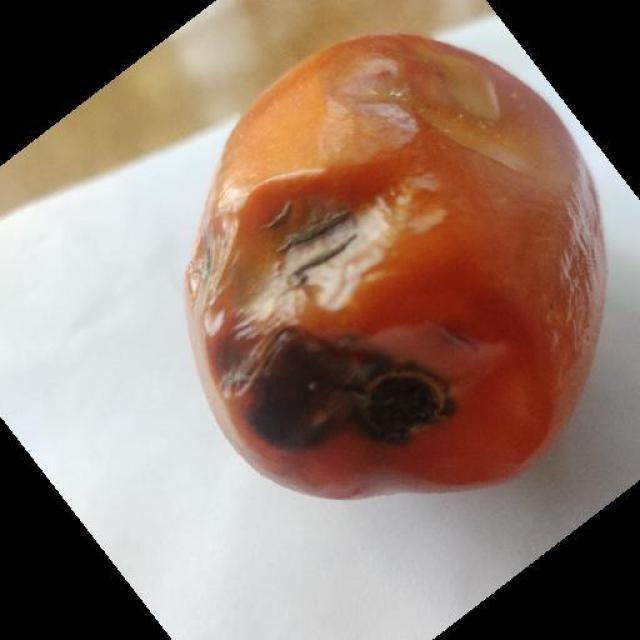Rotten Tomato: (178, 22, 620, 516)
